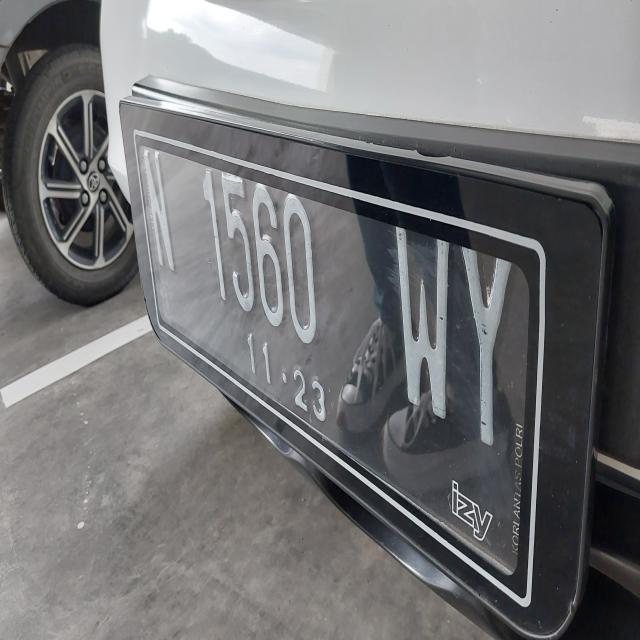0: (278, 180, 338, 354)
1: (196, 158, 242, 324)
5: (216, 157, 266, 336)
6: (244, 172, 292, 338)
N: (138, 136, 188, 284)
W: (379, 180, 464, 442)
Y: (450, 234, 528, 451)
